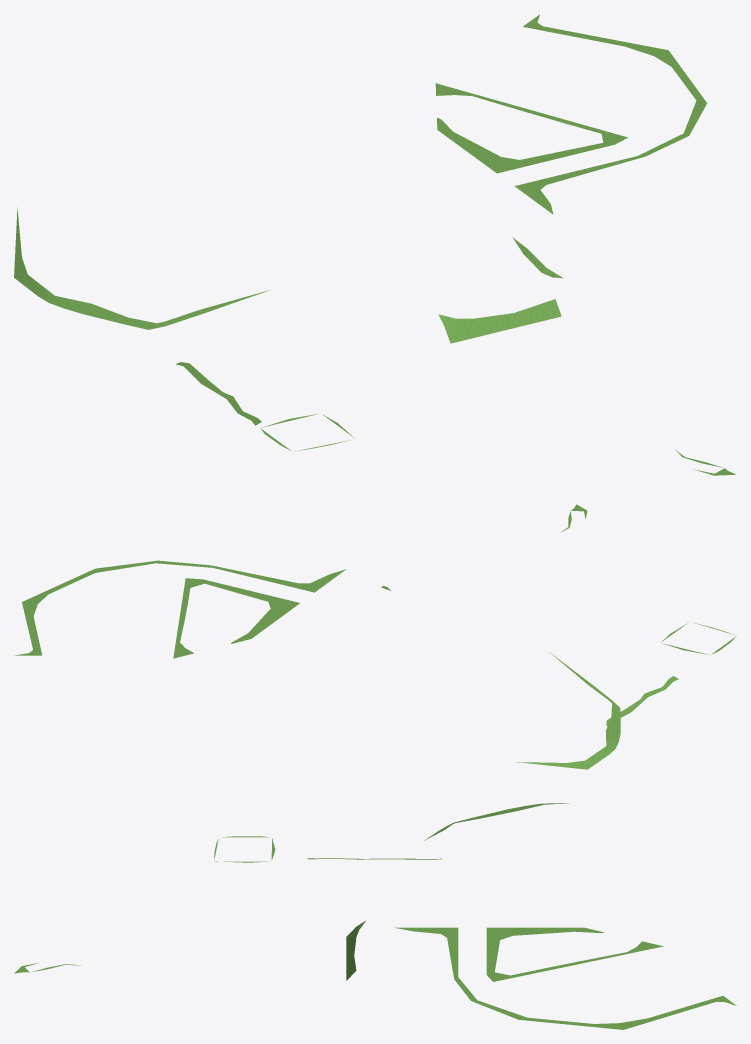
Rendered from kd_stage_1363c5_9_15_bounded.glb.
The picture shows the model from 3 angles, top to bottom: view 1: azimuth 30°, elevation 25°; view 2: azimuth 150°, elevation 25°; view 3: azimuth 270°, elevation 25°; orthographic projection. The views are drawn at different scales.
Parts seen in each view (by area): view 1: kd_stage_1363c5_9_15_bounded; view 2: kd_stage_1363c5_9_15_bounded; view 3: kd_stage_1363c5_9_15_bounded.
Part boxes in pixels (<box>): kd_stage_1363c5_9_15_bounded: <box>14,14,735,475</box>; kd_stage_1363c5_9_15_bounded: <box>15,504,736,769</box>; kd_stage_1363c5_9_15_bounded: <box>14,803,736,1029</box>.
Size of the model in its own units: 126 by 15.56 by 143.
1 material, 1 textured.
